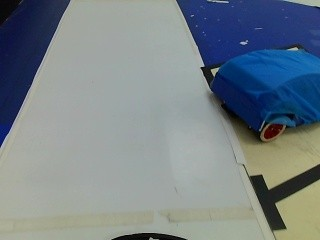car: (211, 46, 320, 143)
